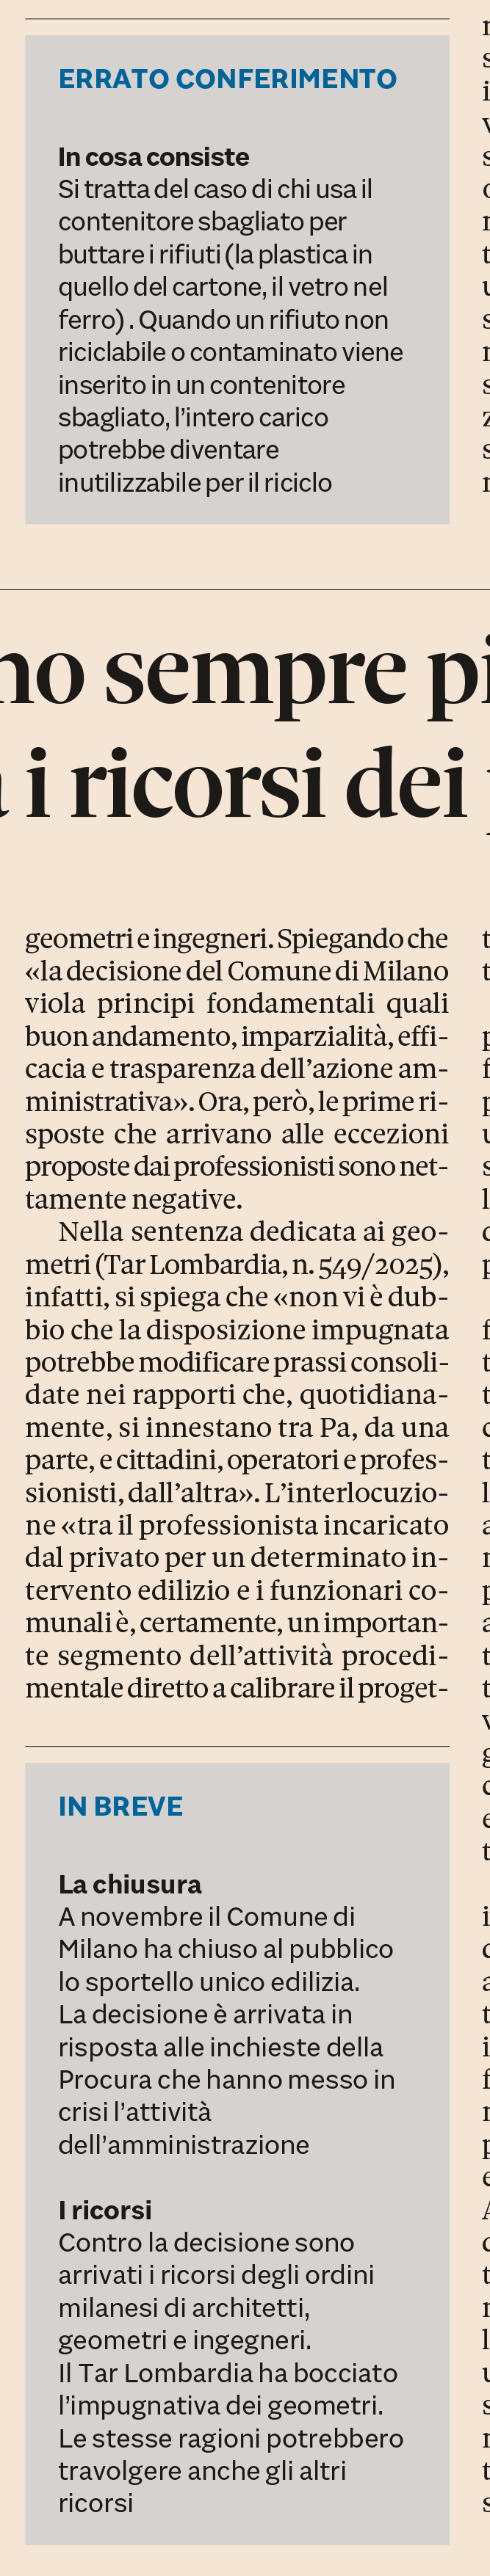scheda-testo-2: (31, 38, 444, 521), (39, 2170, 444, 2541)
scheda-testo-2.1: (30, 1756, 439, 2175)
